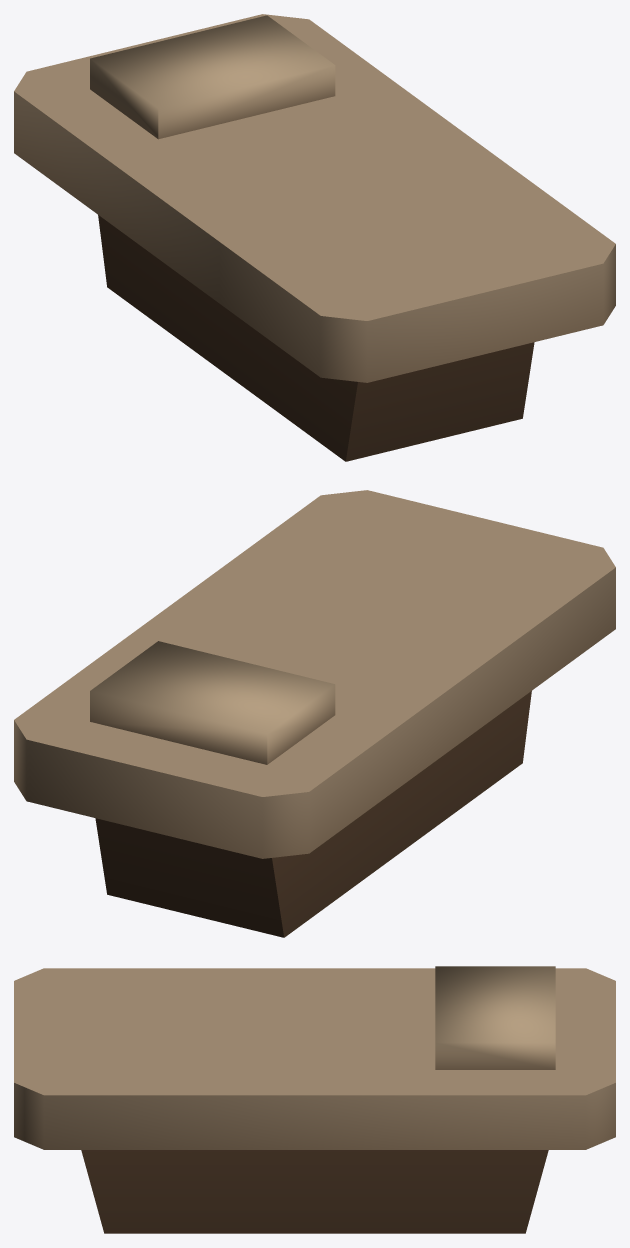
Rendered from bed-single.glb.
3 views of the same model, one above another, from view 1: azimuth 30°, elevation 25°; view 2: azimuth 150°, elevation 25°; view 3: azimuth 270°, elevation 25° (orthographic). The views are drawn at different scales.
Visible parts, largest first — view 1: bed-single; view 2: bed-single; view 3: bed-single.
Boxes of the visible parts, x1,y1,x2,y2 form: bed-single: [14, 14, 615, 461]; bed-single: [14, 490, 615, 937]; bed-single: [14, 966, 615, 1233].
Size of the model in its own units: 0.5001 by 0.35 by 1.
